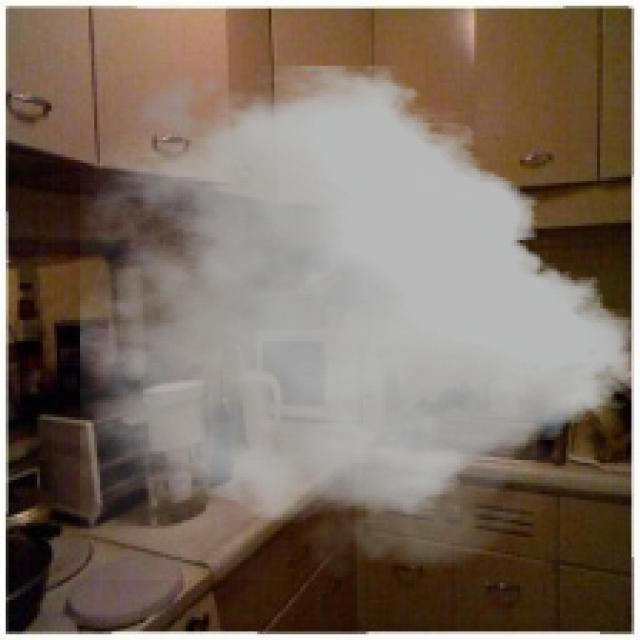smoke: (80, 57, 634, 580)
